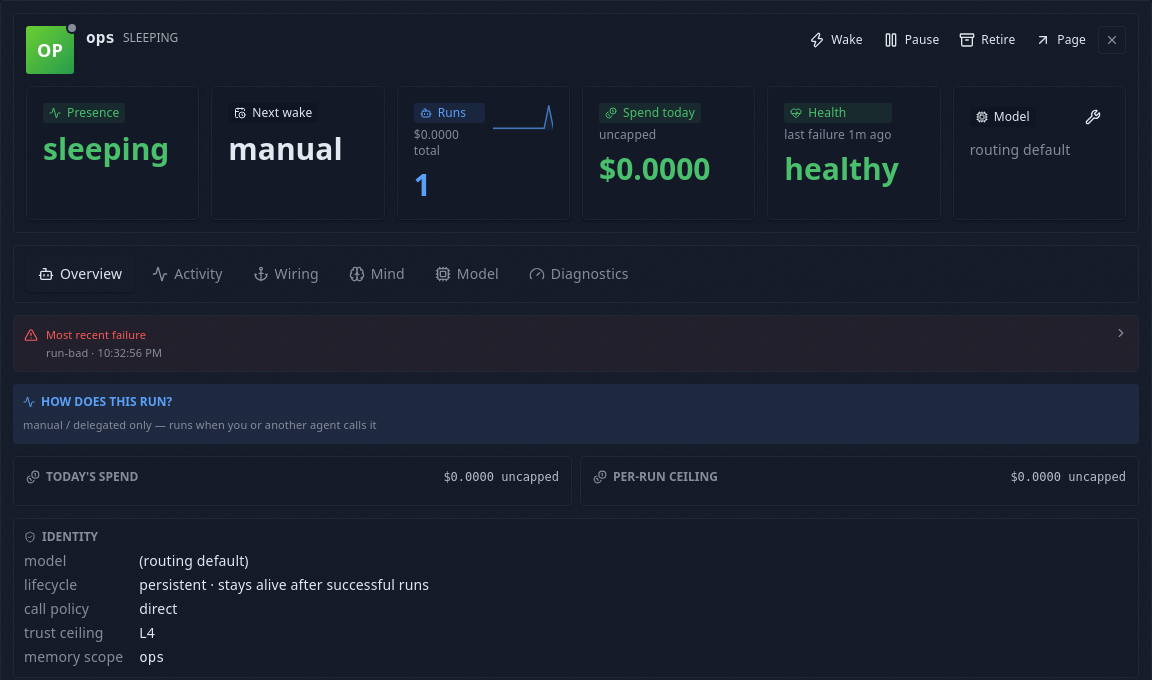
Scenario: AgentDetail shell › clicking the failure headline focuses the run on the Activity tab
The image size is (1152, 680).
Step 1. Click the button "Most recent failure run-bad · 10:32:56 PM" → (96, 334), box [13, 315, 1139, 372]
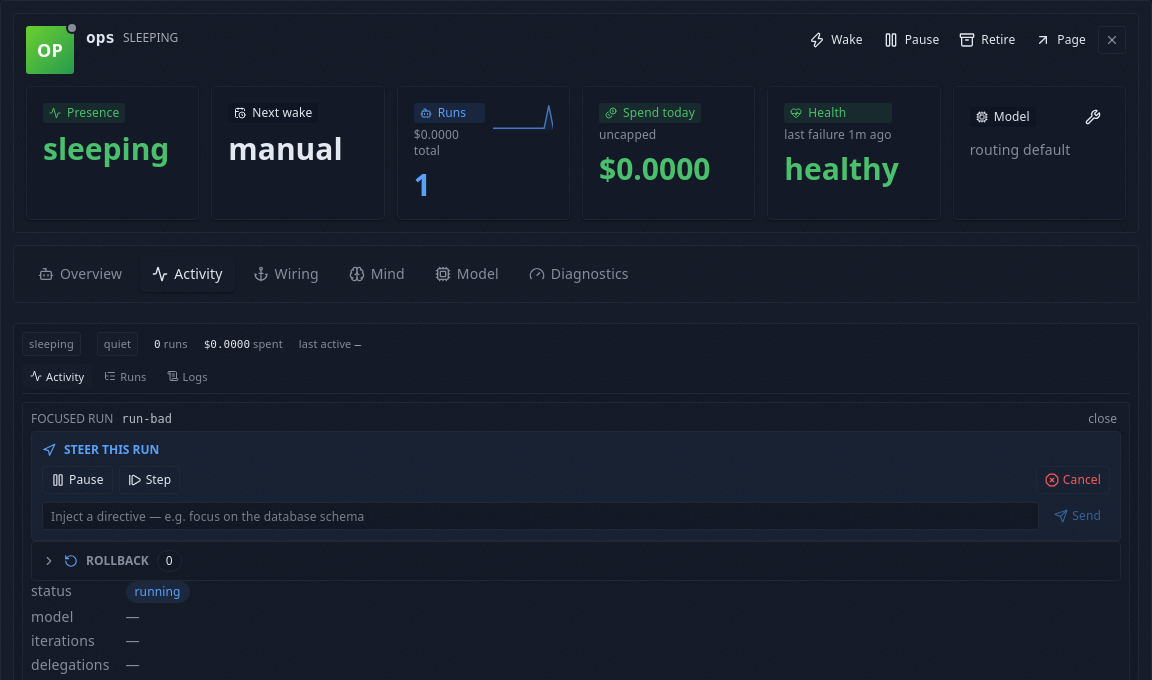
Expected: the text "run-bad" is shown, [122, 411, 172, 427]
Expected: the text "focused run" is shown, [31, 411, 114, 427]
